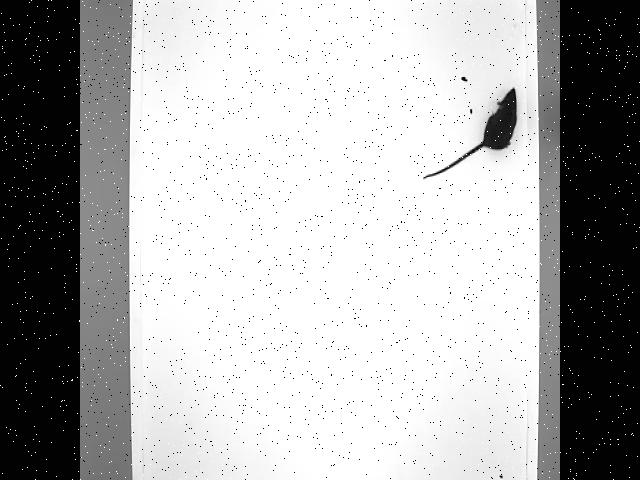Tikus: (424, 87, 518, 178)
